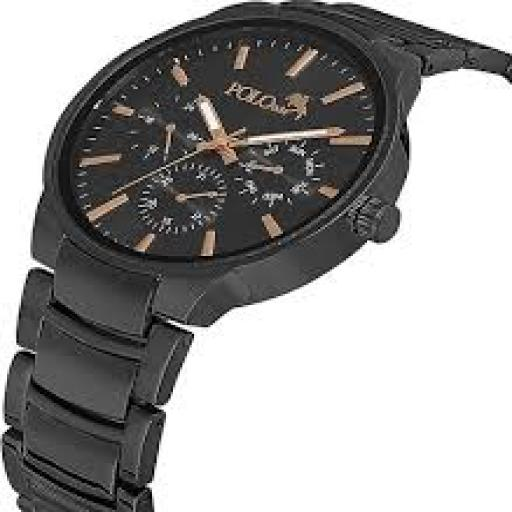KolSaati: (2, 2, 502, 486)
